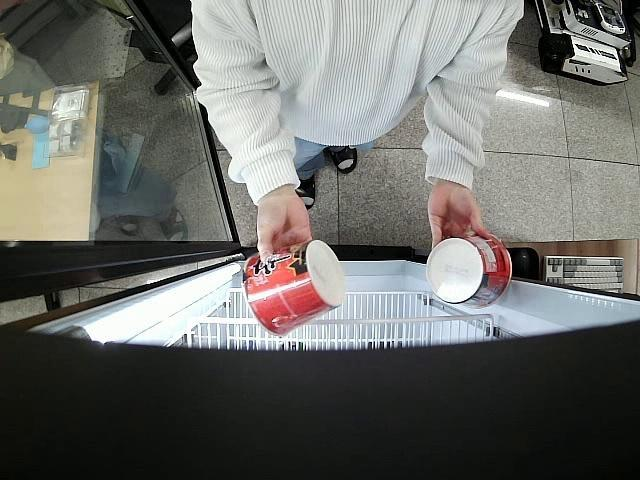01_ShinRamen_L: (241, 240, 348, 336), (423, 232, 513, 310)
